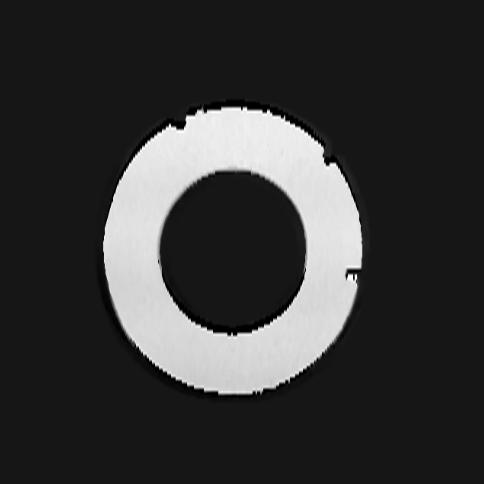defect: (345, 267, 363, 284), (171, 114, 187, 131), (321, 149, 335, 168)
